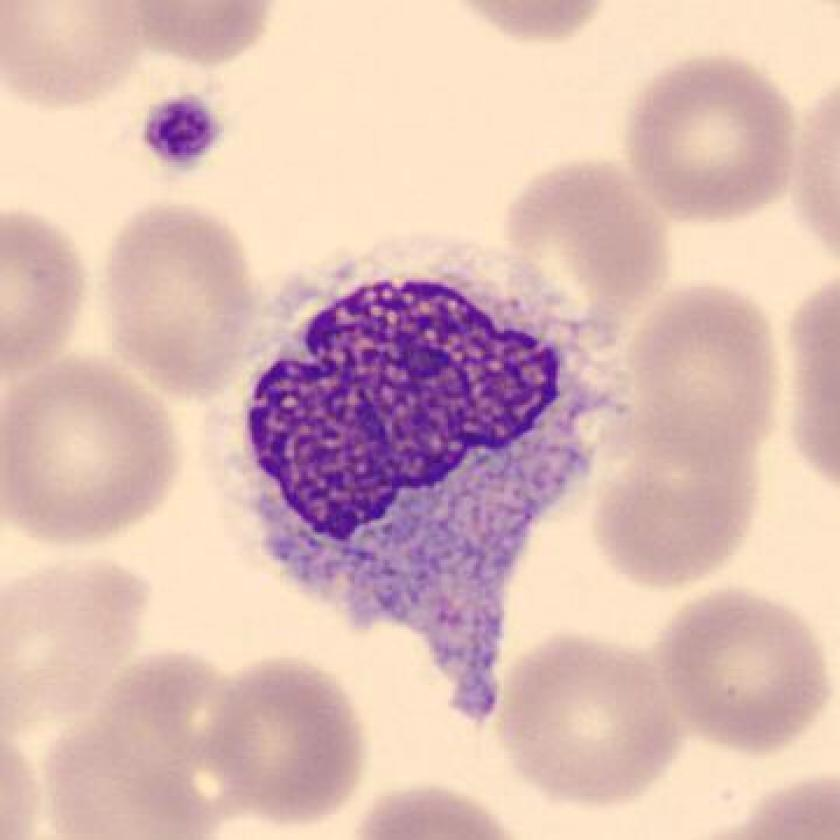monocyte: (200, 228, 655, 755)
